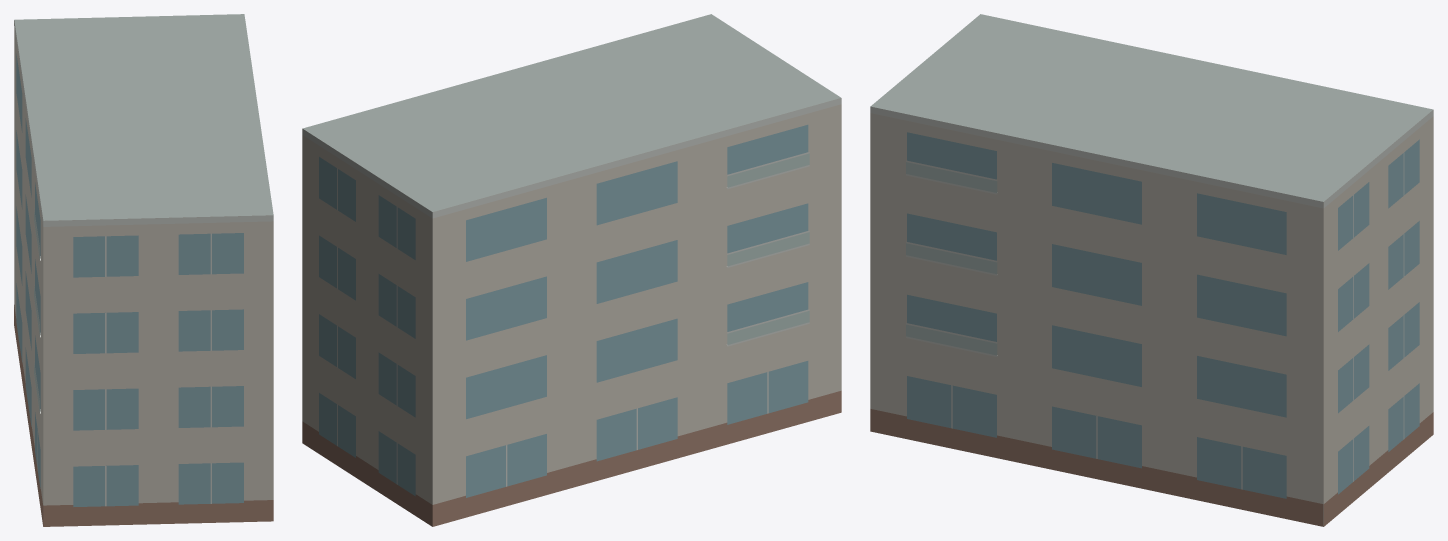
Rendered from survey-upis-32805051.glb.
3 views of the same model, side by side, from view 1: azimuth 30°, elevation 25°; view 2: azimuth 150°, elevation 25°; view 3: azimuth 270°, elevation 25° (orthographic). The views are drawn at different scales.
Visible parts, largest first — view 1: survey-upis-32805051.tmp; view 2: survey-upis-32805051.tmp; view 3: survey-upis-32805051.tmp.
Part boxes in pixels (x1,y1,x2,y2): survey-upis-32805051.tmp: (14,14,273,526); survey-upis-32805051.tmp: (302,14,841,526); survey-upis-32805051.tmp: (870,14,1433,526).
Bounding box in the file's own units: 15.02 × 12.1 × 19.02.
